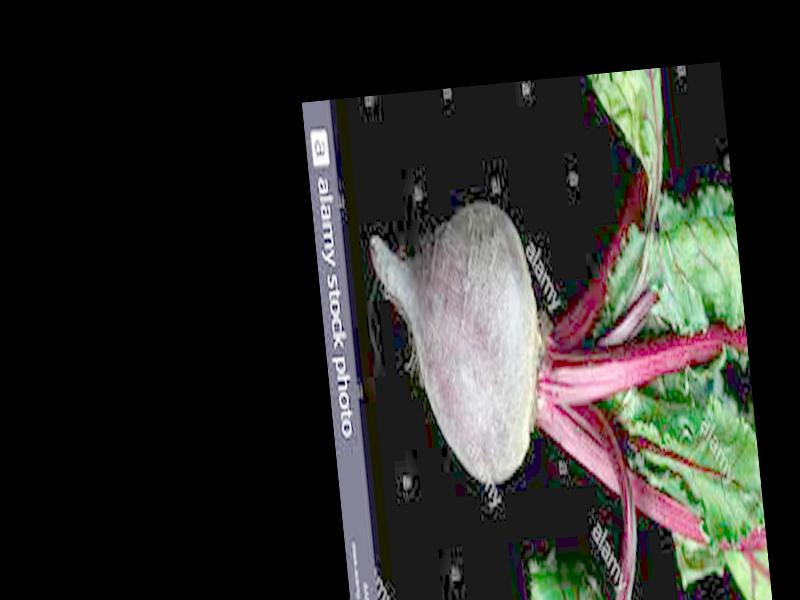Beet: (357, 65, 772, 600)
